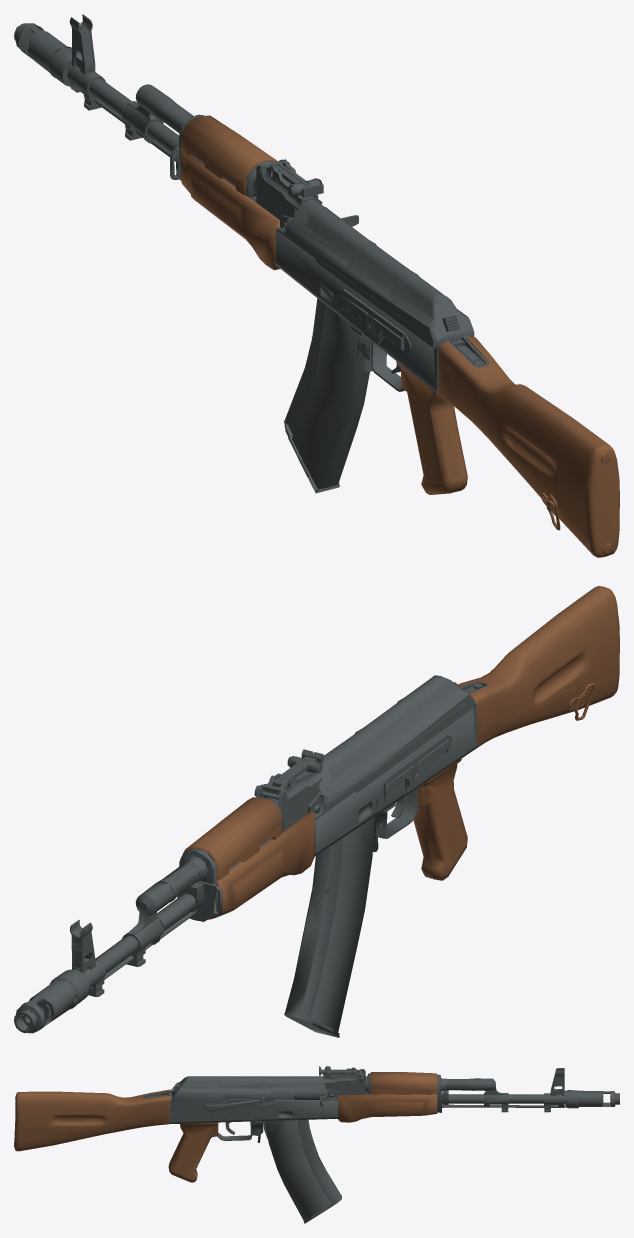
3 renders of one model, top to bottom at view 1: azimuth 30°, elevation 25°; view 2: azimuth 150°, elevation 25°; view 3: azimuth 270°, elevation 25°, orthographic. The views are drawn at different scales.
Visible parts, largest first — view 1: AK-74_bak_mag30_Material.012_0; view 2: AK-74_bak_mag30_Material.012_0; view 3: AK-74_bak_mag30_Material.012_0.
Part boxes in pixels (<box>): AK-74_bak_mag30_Material.012_0: <box>14,14,619,557</box>; AK-74_bak_mag30_Material.012_0: <box>14,586,619,1037</box>; AK-74_bak_mag30_Material.012_0: <box>14,1066,619,1223</box>.
Size of the model in its own units: 0.0651 by 0.2495 by 0.9.
